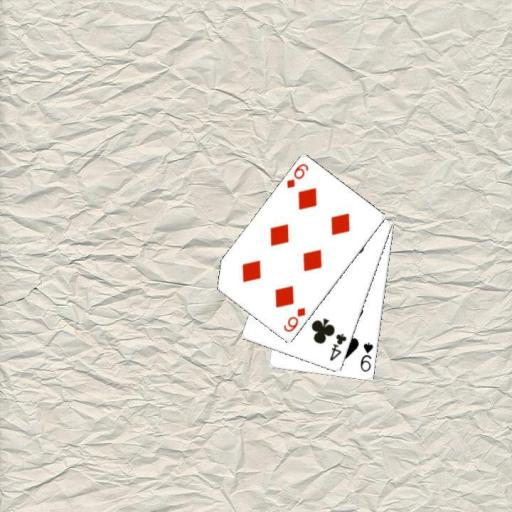4C: (326, 331, 348, 363)
6D: (280, 305, 307, 335), (284, 161, 310, 190)
9S: (357, 340, 375, 374)
